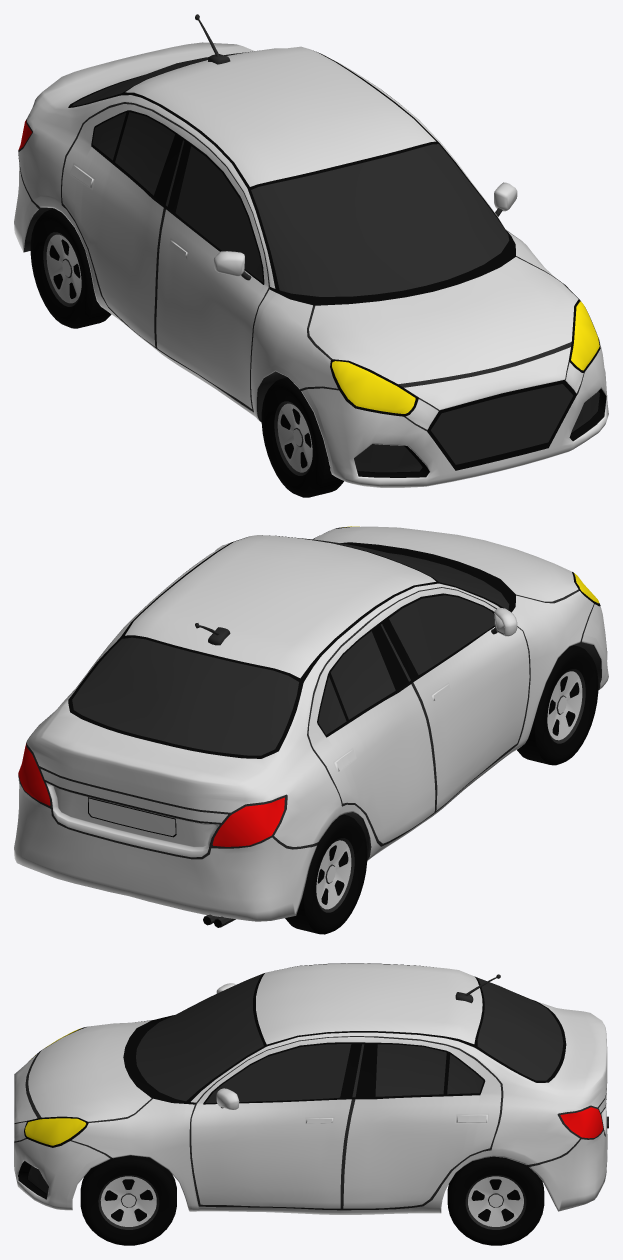
Rendered from Car2.fbx.
3 renders of one model, top to bottom at view 1: azimuth 30°, elevation 25°; view 2: azimuth 150°, elevation 25°; view 3: azimuth 270°, elevation 25°, orthographic. The views are drawn at different scales.
Visible parts, largest first — view 1: Car Body, TyreFR, TyreBR; view 2: Car Body, TyreFR, TyreBR; view 3: Car Body, TyreFL, TyreBL.
Part boxes in pixels (box(x1,y1,x2,y2)): Car Body: box(14, 14, 608, 487); TyreFR: box(261, 377, 343, 497); TyreBR: box(30, 208, 111, 328); Car Body: box(14, 526, 608, 927); TyreFR: box(517, 645, 598, 765); TyreBR: box(285, 814, 367, 934); Car Body: box(14, 963, 608, 1214); TyreFL: box(80, 1155, 176, 1245); TyreBL: box(447, 1156, 544, 1245).
Size of the model in its own units: 124 by 109 by 268.
